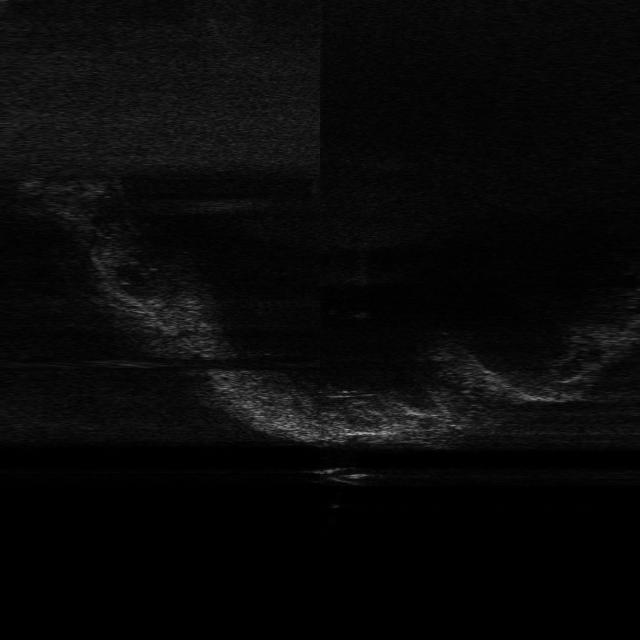plane: (302, 465, 382, 487)
